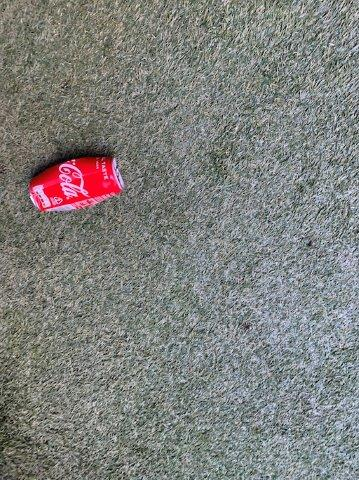kaleng: (30, 157, 123, 212)
